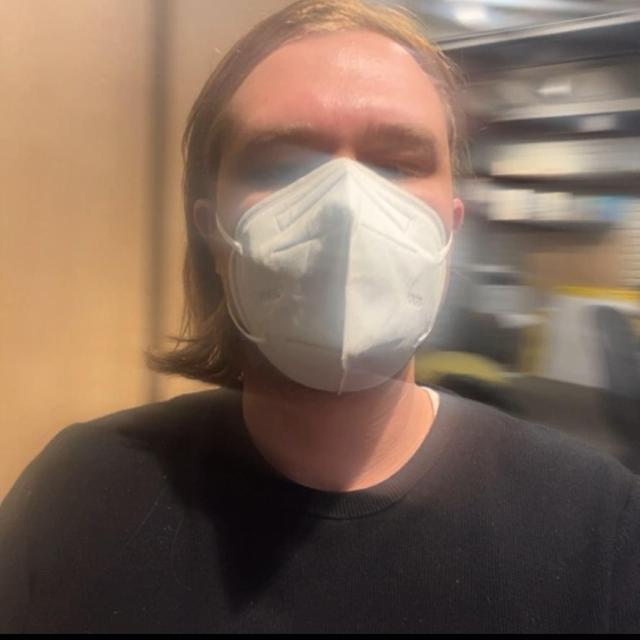mask: (215, 164, 452, 392)
no_helmet: (220, 0, 454, 107)
no_vest: (27, 403, 631, 640)
person: (0, 0, 640, 634)
